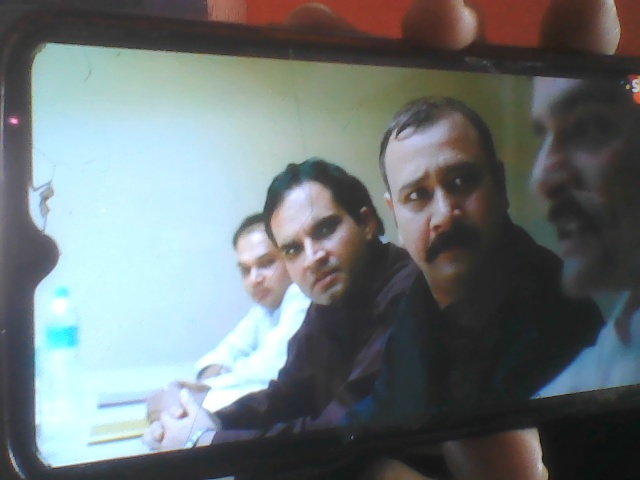fake: (377, 90, 523, 297), (250, 143, 383, 331)
